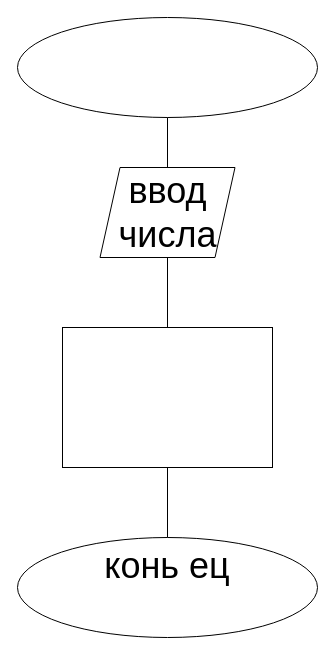
This 335x655 diagram has some shape labels left out. Each missing label, with the box of its shape:
вычисление факториала: (62, 326, 272, 468)
Начало: (16, 16, 318, 118)
